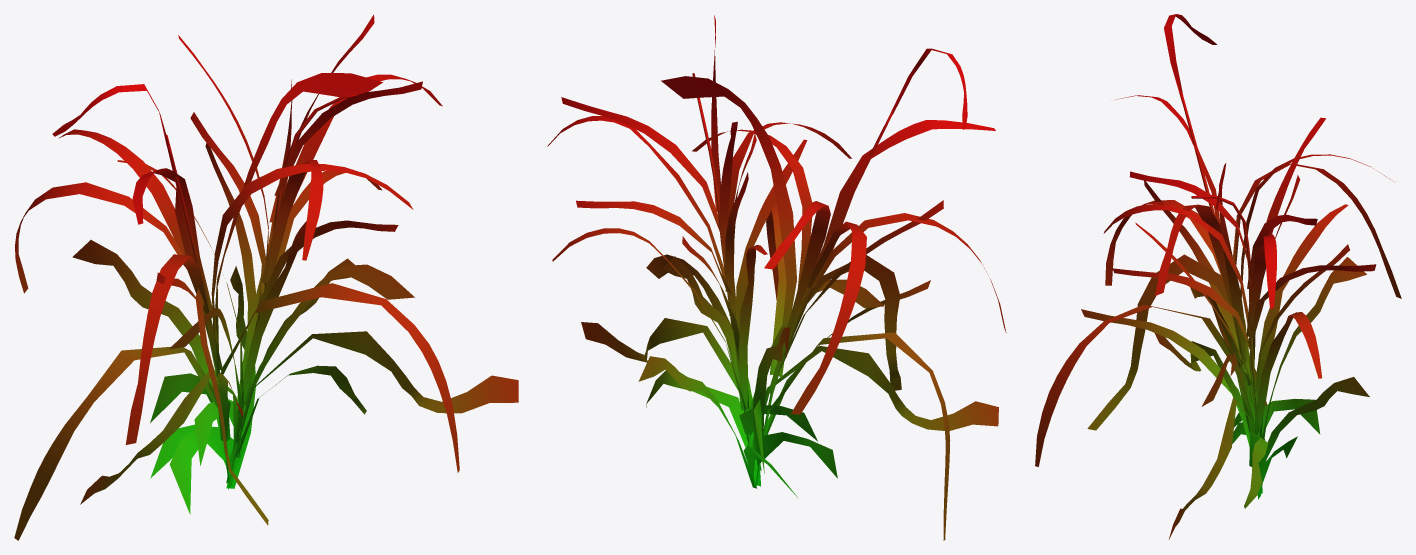
The model's file is tkbidaxia_Var11_LOD0.fbx.
The picture shows the model from 3 angles, left to right: view 1: azimuth 30°, elevation 25°; view 2: azimuth 150°, elevation 25°; view 3: azimuth 270°, elevation 25°; orthographic projection. The views are drawn at different scales.
Visible parts, largest first — view 1: _b4bd_Var11_LOD0; view 2: _b4bd_Var11_LOD0; view 3: _b4bd_Var11_LOD0.
Part boxes in pixels (x1,y1,x2,y2): _b4bd_Var11_LOD0: (14,14,518,540); _b4bd_Var11_LOD0: (547,15,1006,540); _b4bd_Var11_LOD0: (1035,14,1401,539).
Size of the model in its own units: 27.58 by 28.14 by 22.36.
